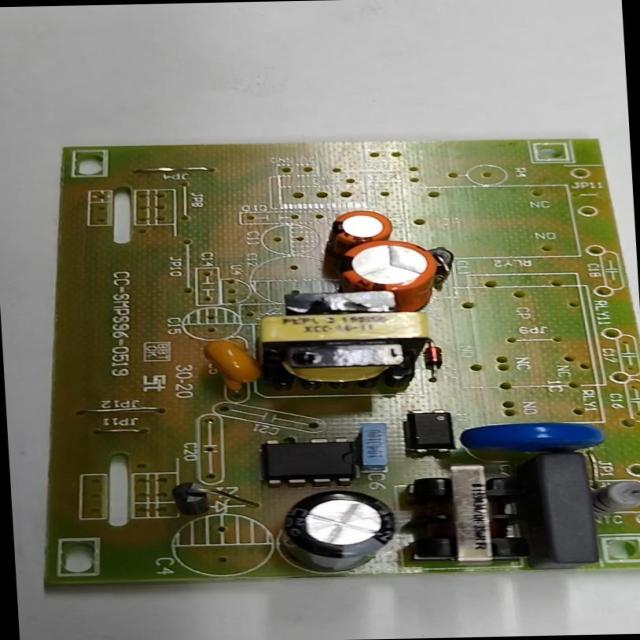Cap1: (340, 239, 437, 292)
Cap2: (330, 209, 393, 242)
Cap3: (284, 488, 394, 573)
MOSFET: (264, 436, 354, 483)
Mov: (459, 420, 604, 448)
Resistor: (591, 482, 639, 513)
Transformer: (257, 288, 429, 389), (407, 464, 525, 565)
